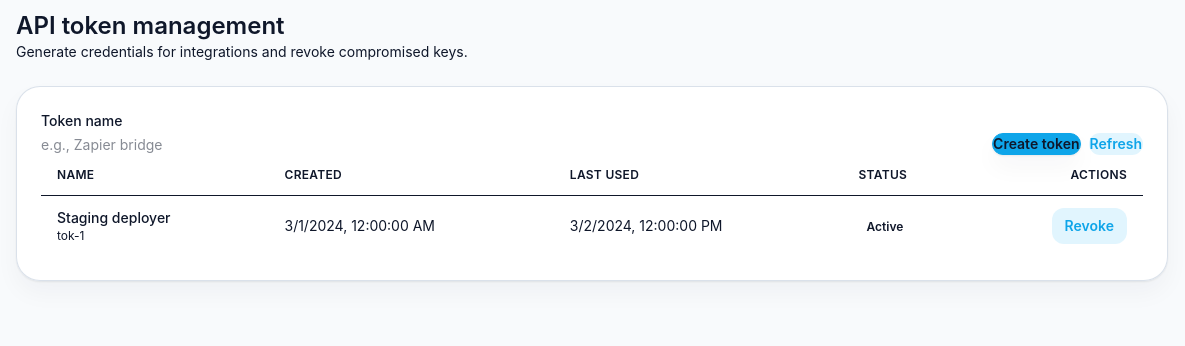
admin api tokens page › revokes a token and surfaces feedback
Step 1. Click the button "Revoke" → [1089, 226], box top-left (1052, 208), bottom-right (1127, 244)
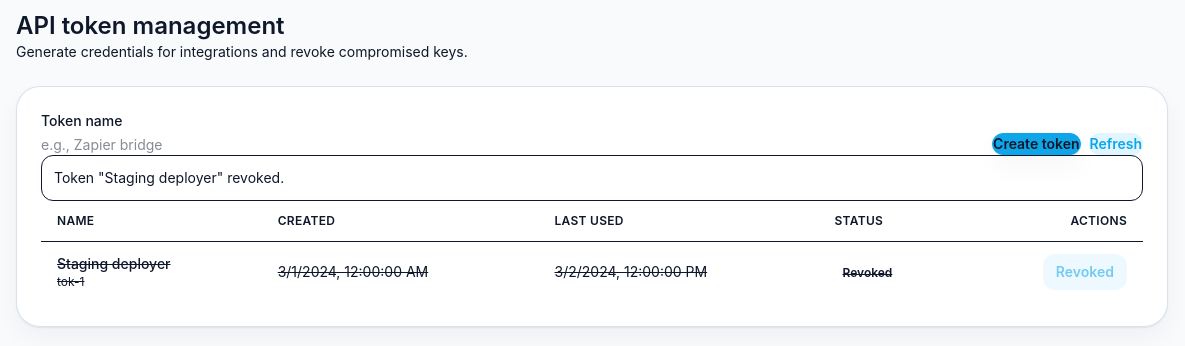
Result: the message shows "revoked" at top-left (54, 169), bottom-right (284, 186)
